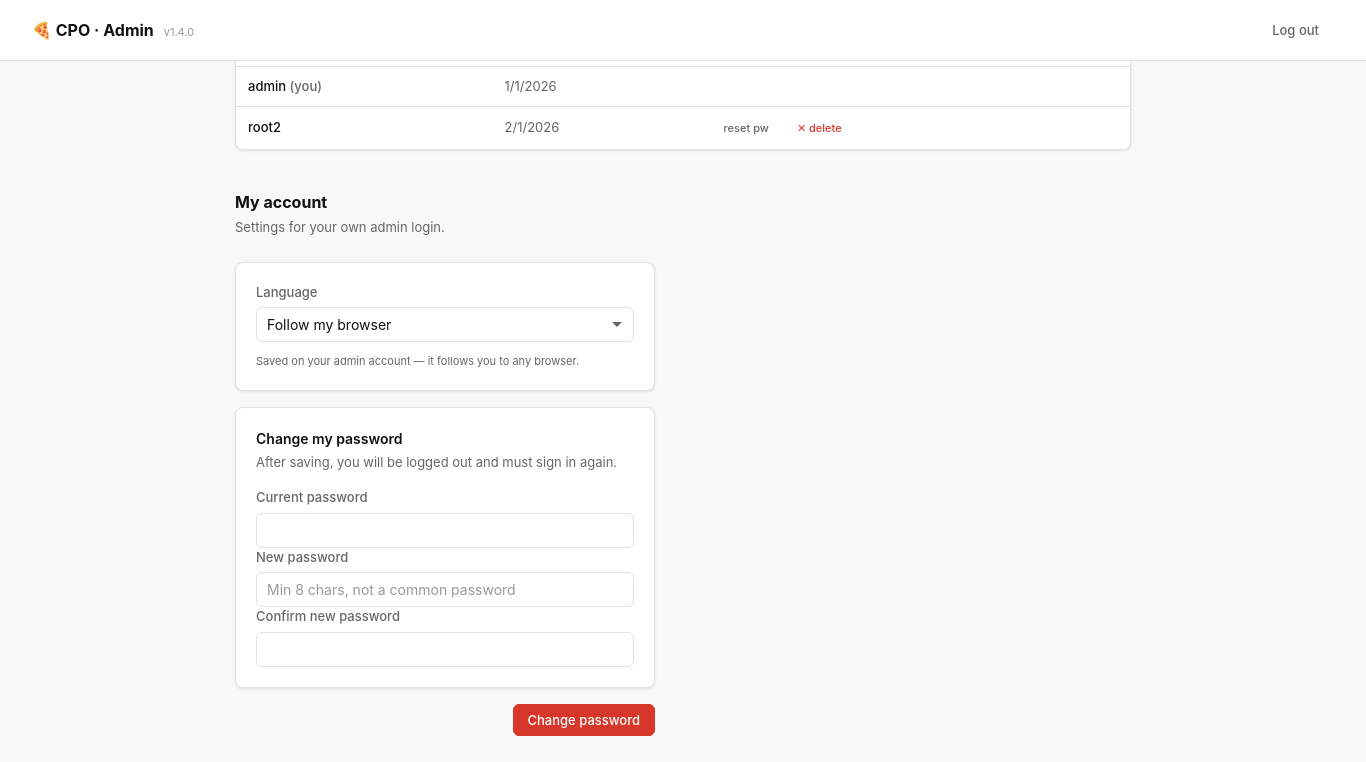
Test: AdminPanel › changing my password › shows the server error when the current password is wrong
(page scrolled)
Type "wrongpass" into the password field labelled "Current password".
click(445, 530); type("wrongpass")  # box [256,512,634,548]
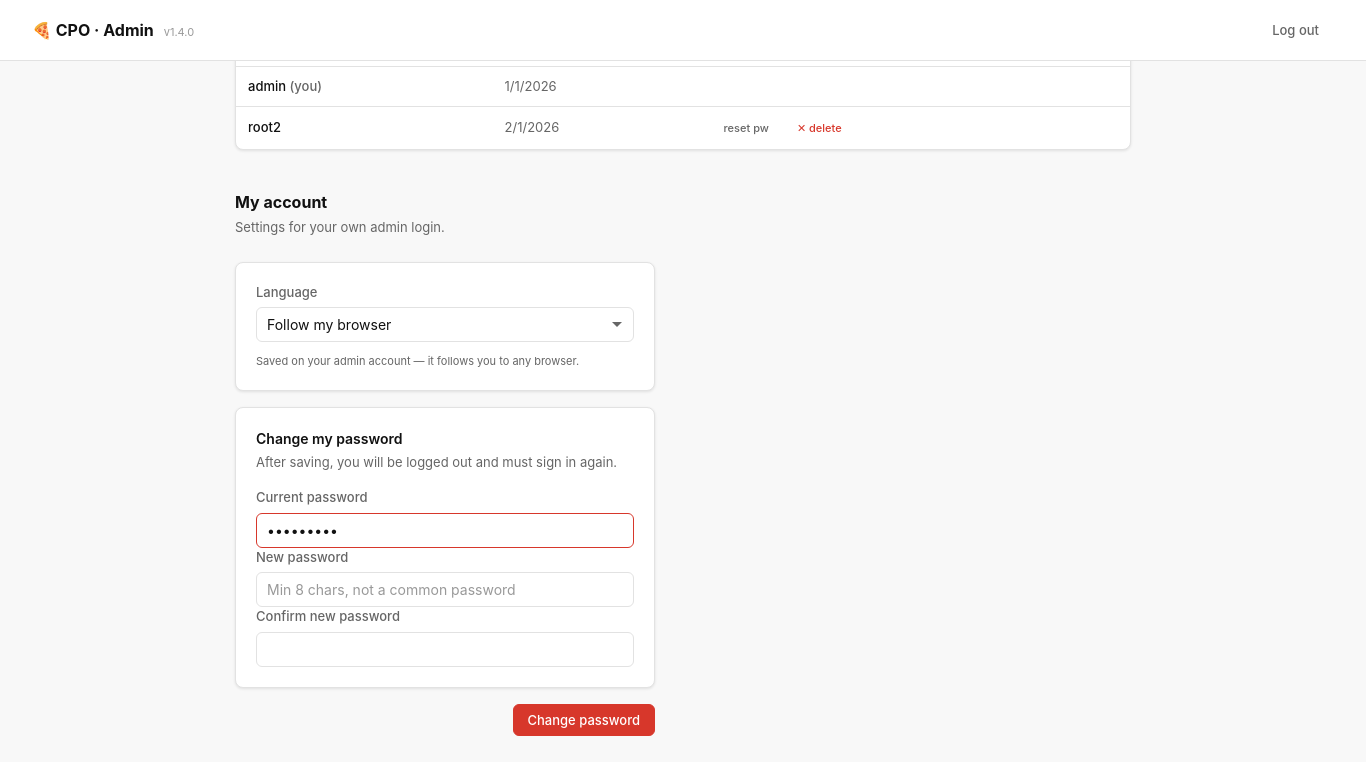
Type "newsecret1" into the password field labelled "New password".
click(445, 590); type("newsecret1")  # box [256,572,634,607]
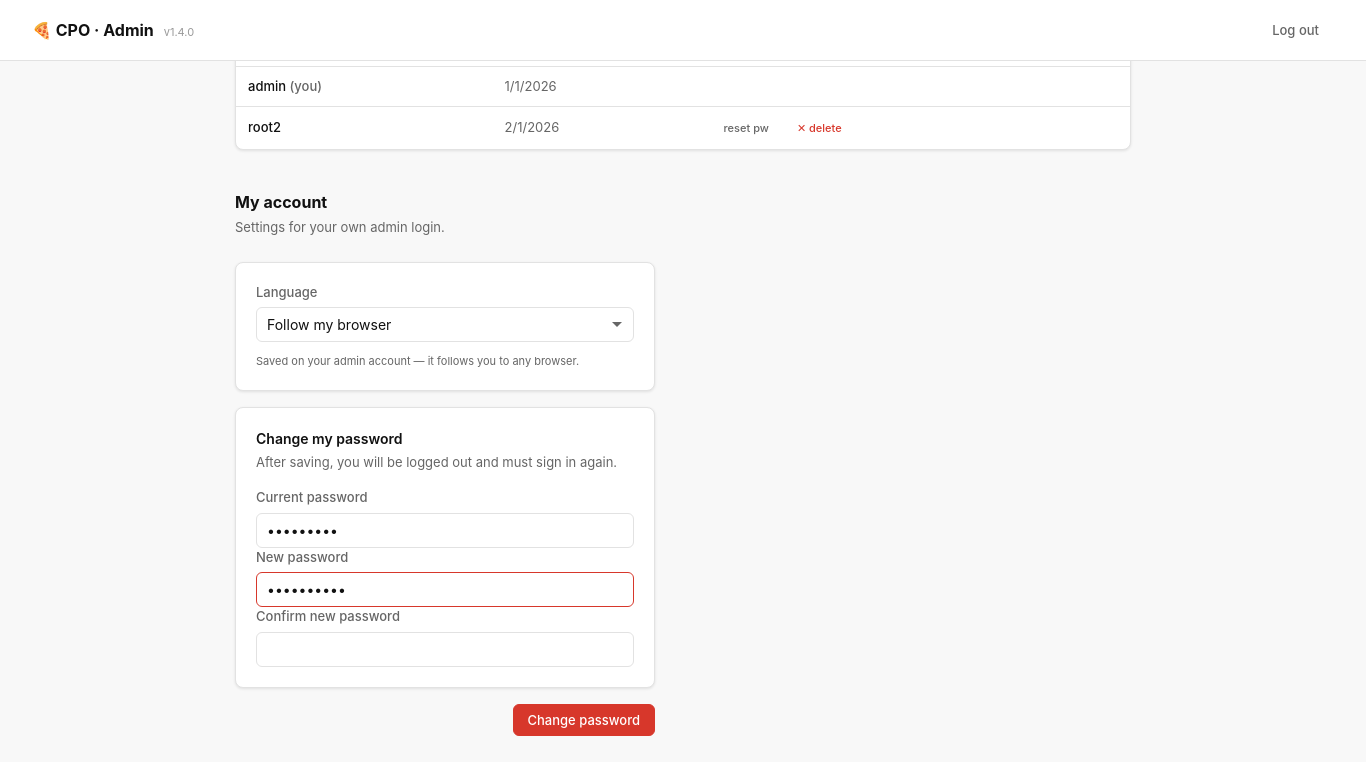
Type "newsecret1" into the password field labelled "Confirm new password".
click(445, 649); type("newsecret1")  # box [256,632,634,666]
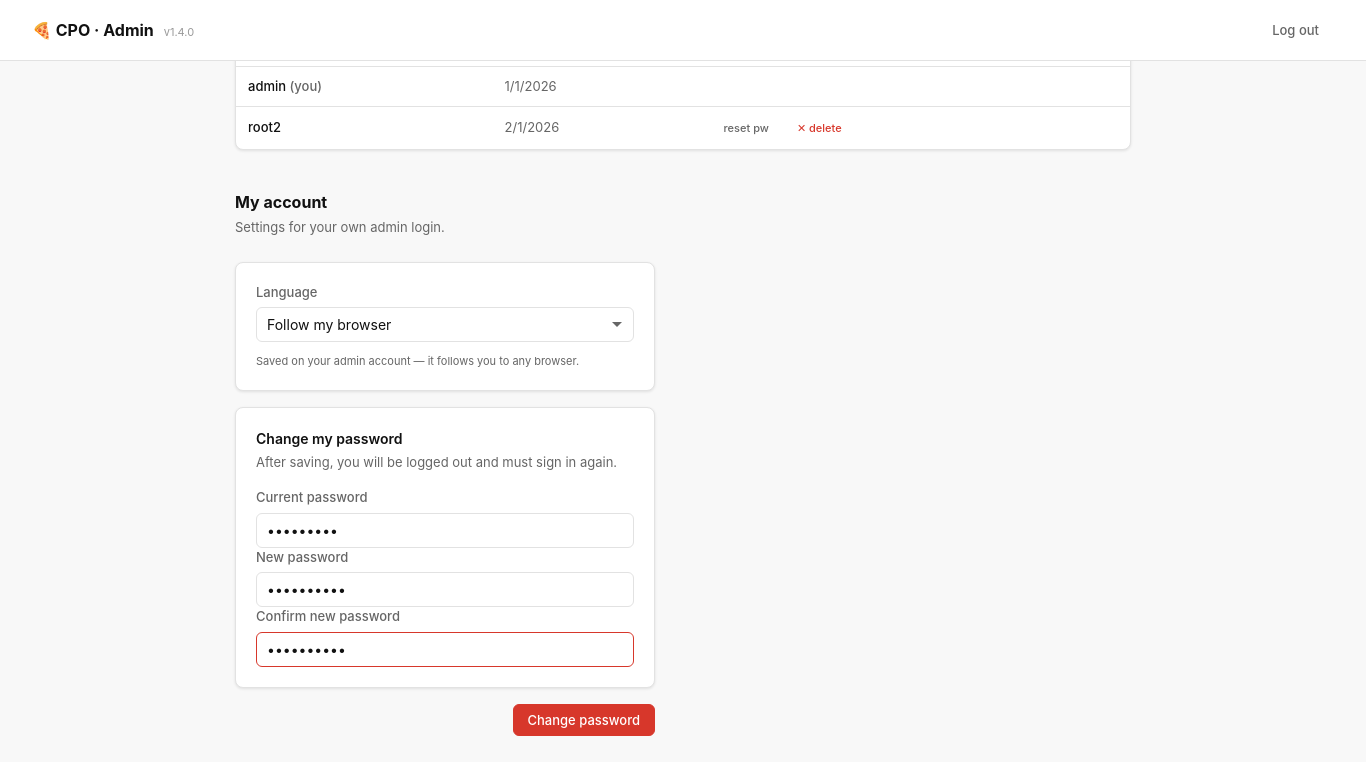
Click the button "Change password".
click(584, 720)  # box [512,704,655,736]
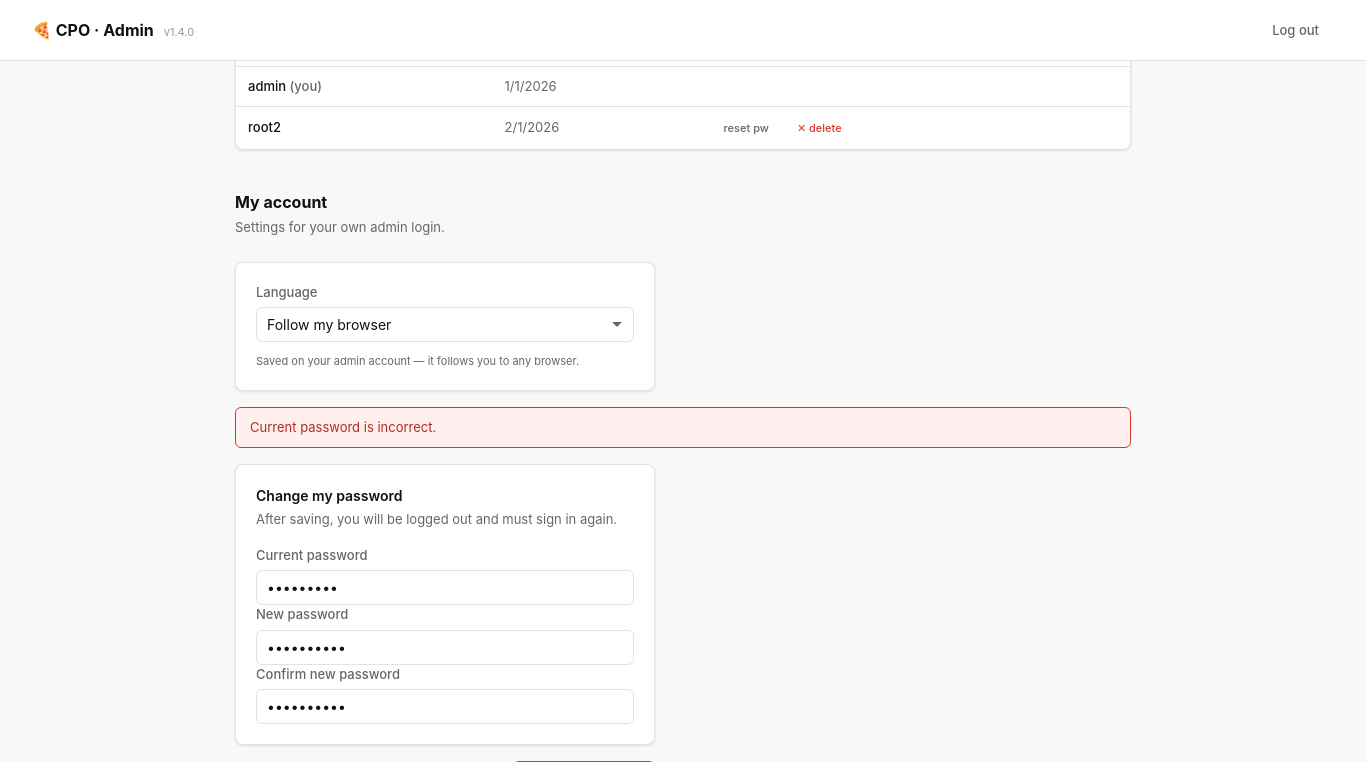
Check: the text "Current password is incorrect." is shown, box [235,406,1131,448]
